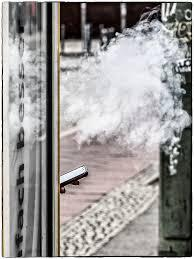smoke: (65, 20, 194, 156)
